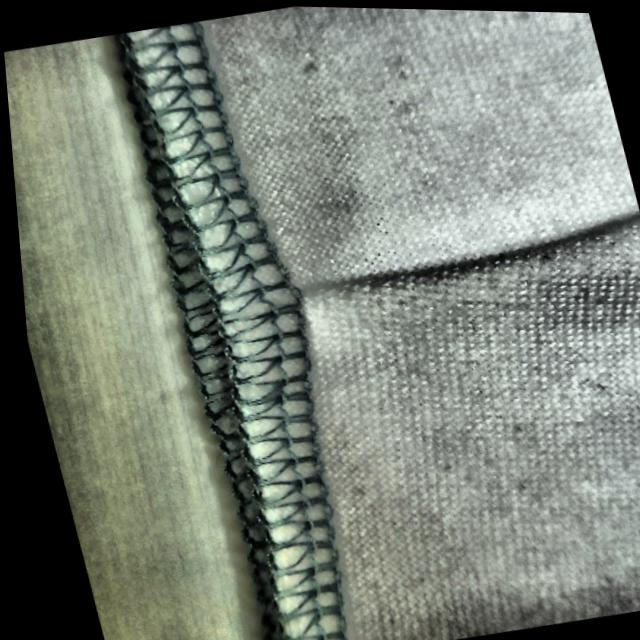seam: (194, 193, 518, 377)
